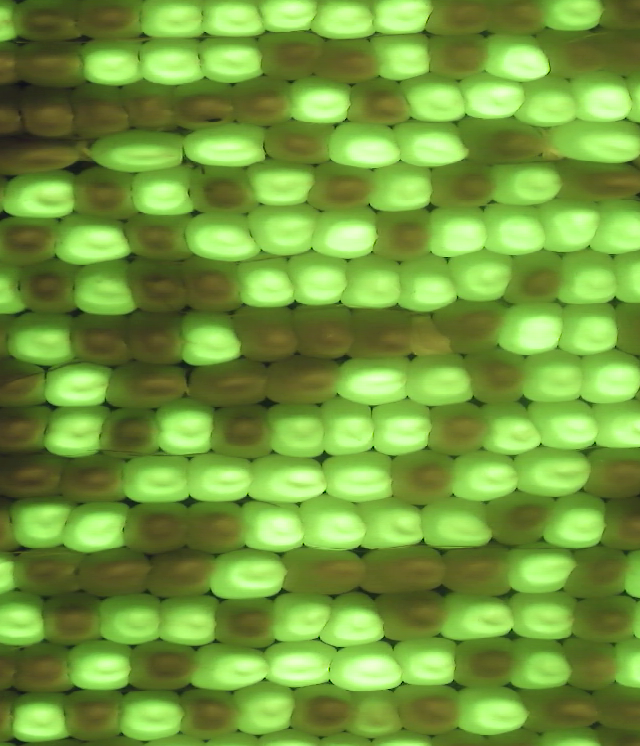fluorescent: (202, 544, 300, 608), (183, 637, 280, 700), (83, 124, 194, 178), (180, 113, 279, 173), (291, 491, 377, 558), (239, 449, 336, 508), (505, 442, 602, 501), (416, 491, 504, 556), (326, 352, 424, 410), (434, 585, 521, 649), (3, 489, 83, 558), (313, 586, 395, 653), (319, 637, 412, 696), (470, 394, 552, 460), (107, 684, 195, 745), (46, 209, 140, 266), (53, 496, 138, 559), (183, 206, 273, 265), (547, 113, 640, 170), (323, 114, 411, 174), (234, 493, 314, 559), (0, 309, 85, 371), (321, 445, 406, 507), (35, 399, 116, 464), (179, 446, 262, 509), (521, 395, 608, 455), (350, 492, 431, 556), (503, 630, 580, 697), (305, 201, 383, 267), (59, 632, 138, 697), (492, 296, 572, 360), (399, 349, 480, 412), (390, 249, 465, 317), (335, 251, 413, 316), (530, 193, 608, 258), (441, 245, 520, 309), (244, 199, 324, 262), (117, 446, 197, 509), (176, 304, 249, 373), (501, 537, 583, 598), (477, 197, 555, 261), (1, 165, 84, 225), (263, 394, 334, 464), (151, 389, 221, 460), (366, 393, 439, 461), (505, 586, 589, 645), (395, 70, 480, 128), (453, 681, 538, 739), (94, 587, 171, 651), (386, 115, 475, 170), (539, 484, 612, 551), (2, 688, 85, 746), (551, 244, 625, 309), (420, 198, 495, 262), (445, 447, 526, 506), (514, 70, 589, 133), (229, 676, 304, 739), (480, 29, 557, 90), (231, 247, 303, 312), (239, 155, 324, 210), (260, 637, 345, 692), (128, 161, 202, 224), (364, 160, 443, 219), (516, 347, 594, 406), (69, 257, 142, 320), (269, 585, 342, 648), (153, 590, 228, 651), (285, 246, 355, 311), (394, 629, 465, 693), (38, 356, 122, 410), (567, 65, 640, 127), (486, 155, 569, 209), (135, 32, 212, 90), (553, 297, 625, 359), (283, 71, 358, 129), (367, 27, 439, 87), (194, 32, 272, 87), (315, 393, 379, 460), (75, 32, 147, 91), (455, 68, 529, 123), (583, 190, 640, 259), (575, 347, 640, 407), (343, 686, 409, 742), (0, 585, 55, 652), (130, 1, 214, 44), (531, 1, 619, 40), (193, 1, 271, 44), (304, 1, 382, 43), (584, 398, 640, 453), (253, 1, 324, 39), (366, 1, 440, 37), (605, 632, 640, 695), (0, 257, 33, 320), (610, 243, 640, 309)
nonfluorescent: (454, 111, 553, 173), (100, 355, 198, 417), (275, 542, 372, 604), (284, 295, 365, 369), (356, 541, 453, 602), (259, 350, 350, 415), (437, 538, 525, 605), (202, 395, 280, 469), (6, 540, 93, 605), (341, 301, 424, 369), (225, 299, 308, 365), (179, 353, 275, 410), (181, 159, 269, 221), (430, 295, 515, 359), (117, 303, 197, 371), (372, 586, 459, 647), (121, 633, 205, 696), (385, 446, 465, 512), (181, 494, 257, 563), (120, 253, 198, 320), (515, 680, 608, 736), (115, 496, 197, 559), (52, 449, 136, 510), (71, 542, 157, 601), (177, 250, 250, 319), (549, 152, 640, 207), (531, 25, 613, 86), (210, 591, 289, 654), (460, 342, 531, 412), (560, 541, 636, 605), (67, 163, 144, 226), (370, 203, 442, 269), (12, 82, 85, 147), (0, 444, 79, 504), (286, 679, 365, 739), (165, 74, 245, 133), (10, 34, 94, 90), (304, 159, 381, 220), (65, 307, 136, 373), (13, 256, 87, 319), (253, 27, 331, 86), (118, 208, 196, 267), (35, 585, 108, 648), (64, 79, 135, 143), (448, 634, 525, 693), (344, 73, 422, 131), (115, 78, 189, 139), (386, 680, 465, 737), (422, 398, 490, 464), (422, 157, 499, 215), (261, 114, 342, 169), (142, 544, 220, 601), (227, 71, 299, 132), (500, 248, 572, 309), (485, 490, 558, 549), (95, 404, 167, 463), (575, 441, 640, 506), (558, 633, 626, 695), (307, 34, 385, 88), (0, 207, 66, 270), (11, 638, 79, 699), (0, 130, 84, 179), (422, 30, 495, 86), (567, 592, 640, 648), (57, 686, 125, 746), (174, 685, 245, 742), (7, 1, 91, 46), (0, 399, 57, 461), (0, 357, 56, 417), (70, 1, 148, 44), (593, 490, 640, 555), (403, 309, 460, 362), (418, 1, 497, 39), (591, 678, 640, 739), (592, 22, 640, 82), (479, 1, 549, 39), (605, 295, 640, 357), (0, 82, 33, 142), (588, 1, 640, 39)
